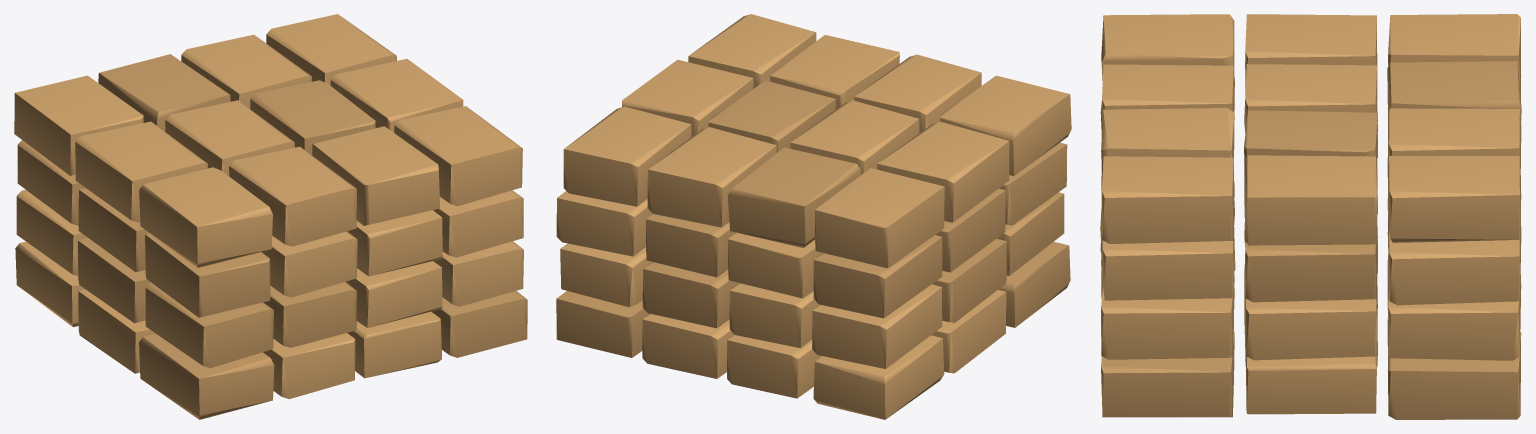
Rendered from NJD-23-LOD1.glb.
The picture shows the model from 3 angles, left to right: view 1: azimuth 30°, elevation 25°; view 2: azimuth 150°, elevation 25°; view 3: azimuth 270°, elevation 25°; orthographic projection. The views are drawn at different scales.
Visible parts, largest first — view 1: handmade block.036, handmade block.039, handmade block.042, handmade block.045, handmade block.037, handmade block.038, handmade block, handmade block.012, handmade block.024, handmade block.046, handmade block.040, handmade block.041 (+18 smaller); view 2: handmade block.038, handmade block.041, handmade block.047, handmade block.044, handmade block.037, handmade block.036, handmade block.014, handmade block.002, handmade block.026, handmade block.040, handmade block.046, handmade block.042 (+18 smaller); view 3: handmade block.046, handmade block.045, handmade block.047, handmade block.035, handmade block.011, handmade block.021, handmade block.009, handmade block.022, handmade block.033, handmade block.023, handmade block.034, handmade block.010 (+9 smaller).
Boxes of the visible parts, box(x1,y1,x2,y2) form: handmade block.036: box(139, 167, 272, 267); handmade block.039: box(229, 146, 356, 246); handmade block.042: box(312, 126, 439, 225); handmade block.045: box(394, 106, 522, 206); handmade block.037: box(75, 121, 207, 222); handmade block.038: box(14, 75, 143, 175); handmade block: box(139, 333, 274, 419); handmade block.012: box(145, 282, 273, 368); handmade block.024: box(145, 233, 270, 317); handmade block.046: box(330, 58, 463, 132); handmade block.040: box(165, 100, 294, 176); handmade block.041: box(98, 54, 230, 131); handmade block.038: box(815, 168, 944, 268); handmade block.041: box(727, 147, 860, 247); handmade block.047: box(563, 106, 691, 206); handmade block.044: box(647, 127, 776, 227); handmade block.037: box(877, 121, 1009, 222); handmade block.036: box(940, 75, 1071, 175); handmade block.014: box(812, 284, 942, 368); handmade block.002: box(813, 335, 944, 419); handmade block.026: box(813, 235, 942, 318); handmade block.040: box(790, 100, 919, 174); handmade block.046: box(622, 59, 753, 136); handmade block.042: box(770, 35, 899, 109); handmade block.046: box(1244, 155, 1377, 245); handmade block.045: box(1101, 156, 1233, 243); handmade block.047: box(1387, 156, 1521, 242); handmade block.035: box(1388, 226, 1520, 305); handmade block.011: box(1388, 332, 1521, 419); handmade block.021: box(1101, 275, 1234, 359); handmade block.009: box(1101, 331, 1234, 417); handmade block.022: box(1244, 295, 1377, 360); handmade block.033: box(1101, 238, 1234, 300); handmade block.023: box(1388, 274, 1520, 360); handmade block.034: box(1245, 219, 1377, 302); handmade block.010: box(1245, 348, 1376, 414).
Size of the model in its own units: 1.91 by 1.06 by 1.82.
